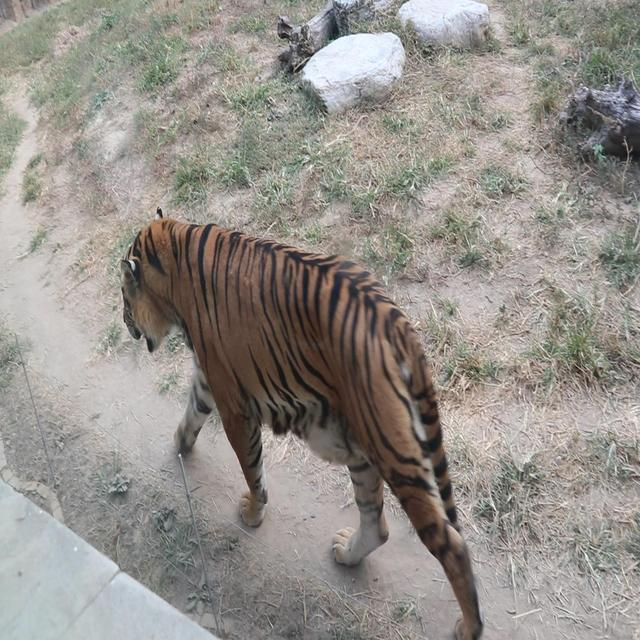tiger: (119, 205, 484, 639)
